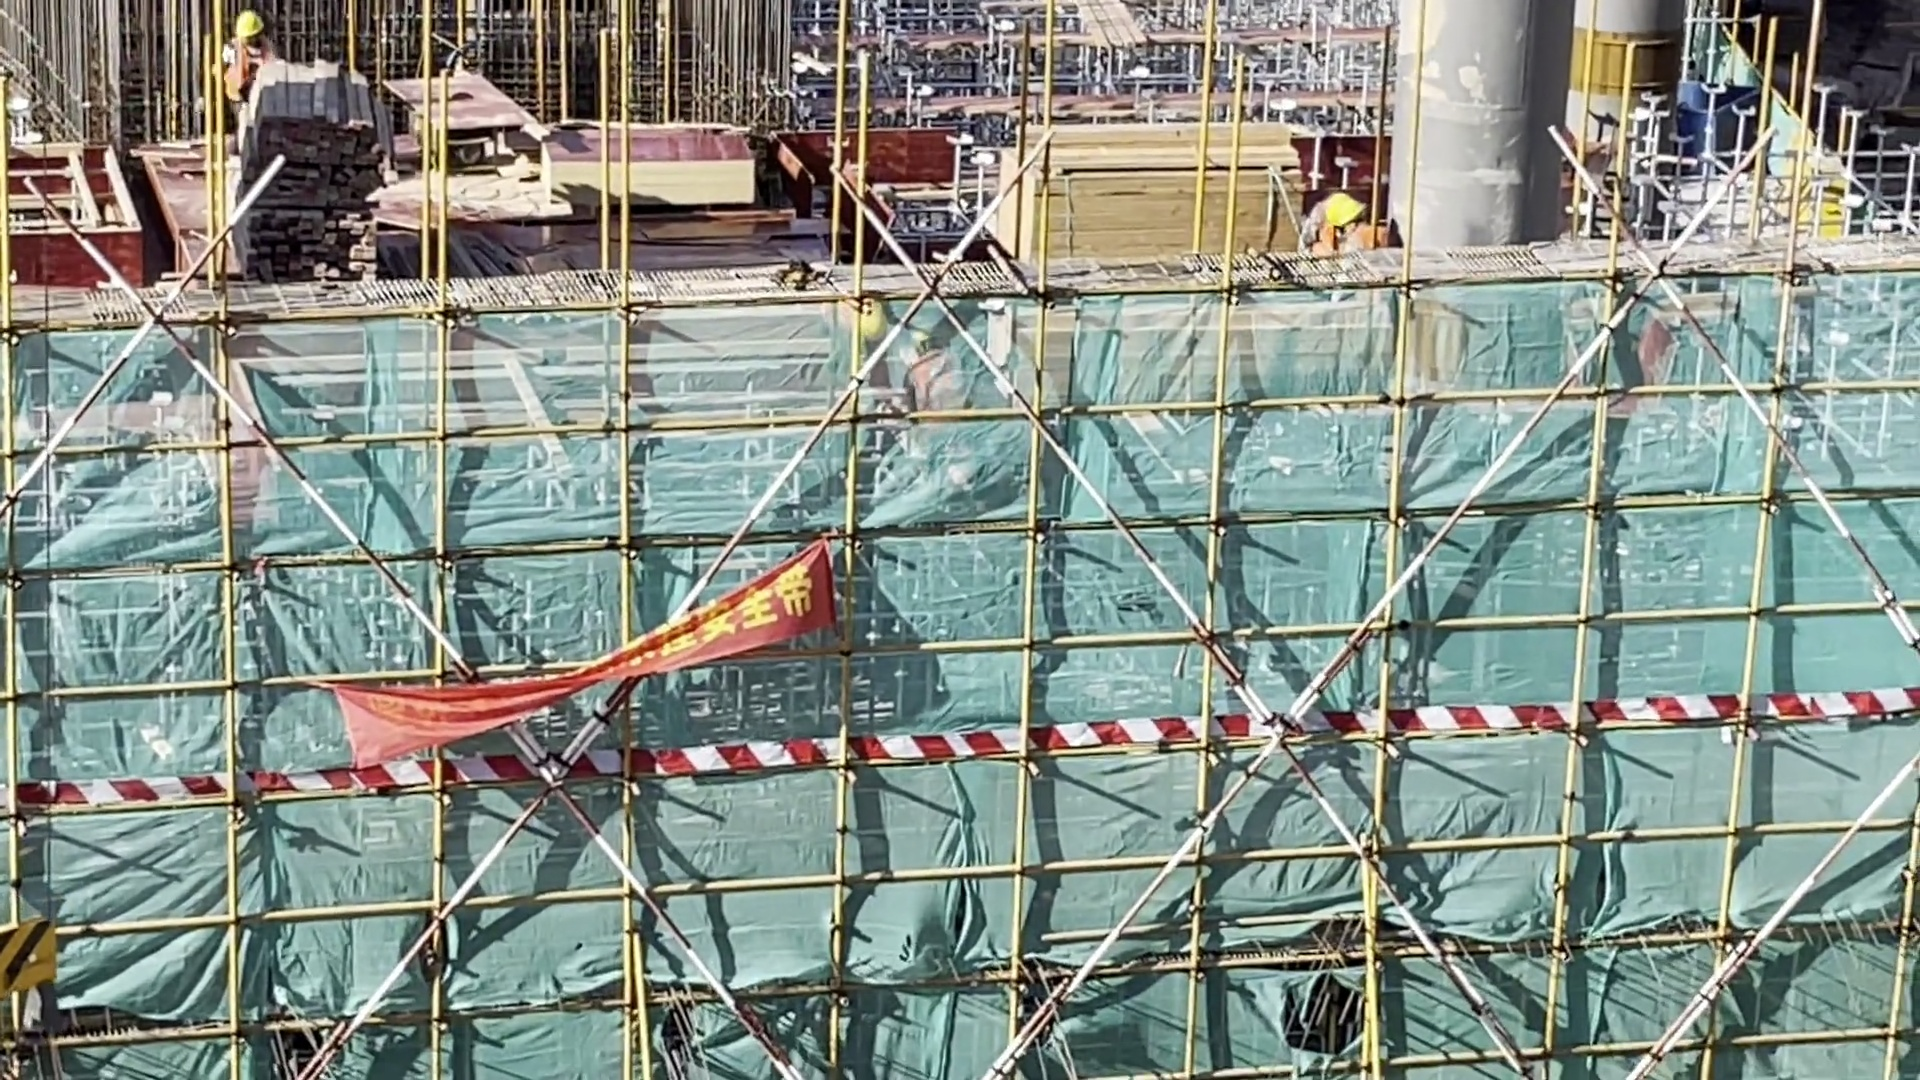cutter: (438, 75, 489, 113)
helmet: (1317, 191, 1368, 227), (225, 13, 267, 41)
hook: (3, 898, 70, 1049)
person: (1296, 187, 1415, 263), (211, 1, 284, 114)
slogan: (320, 535, 846, 763)
wood: (981, 112, 1300, 258), (227, 51, 397, 306)
